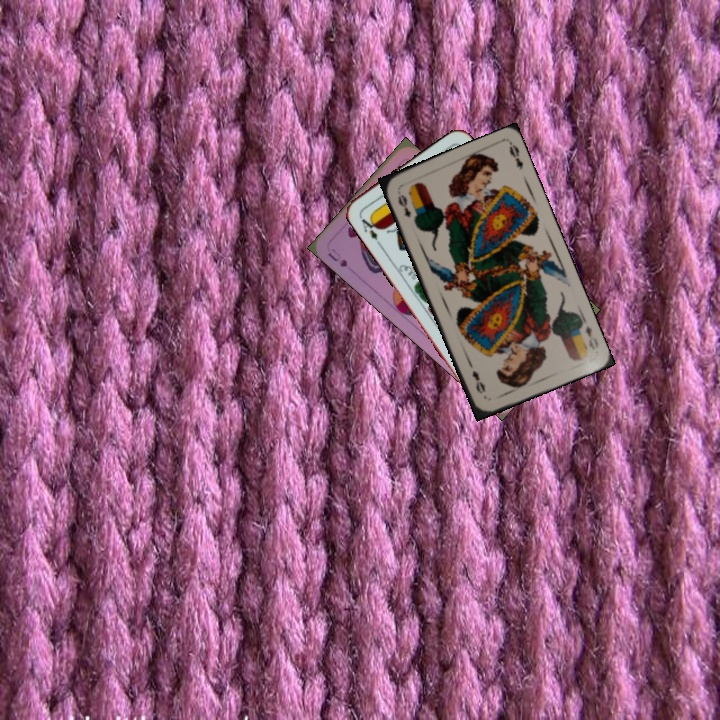EA: (355, 212, 383, 248)
EO: (574, 315, 601, 352), (394, 191, 413, 220)
SU: (323, 244, 350, 270)
